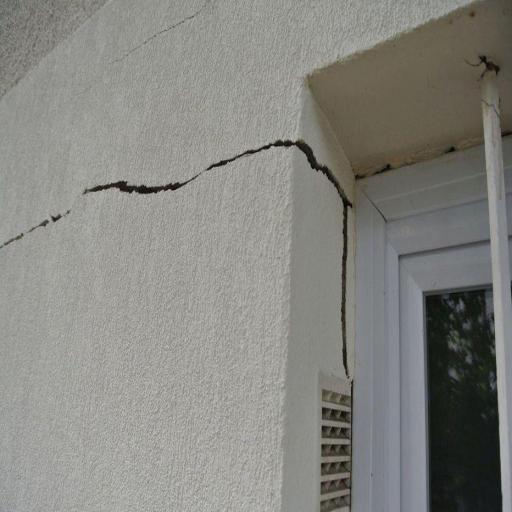spalling: (6, 130, 358, 374)
